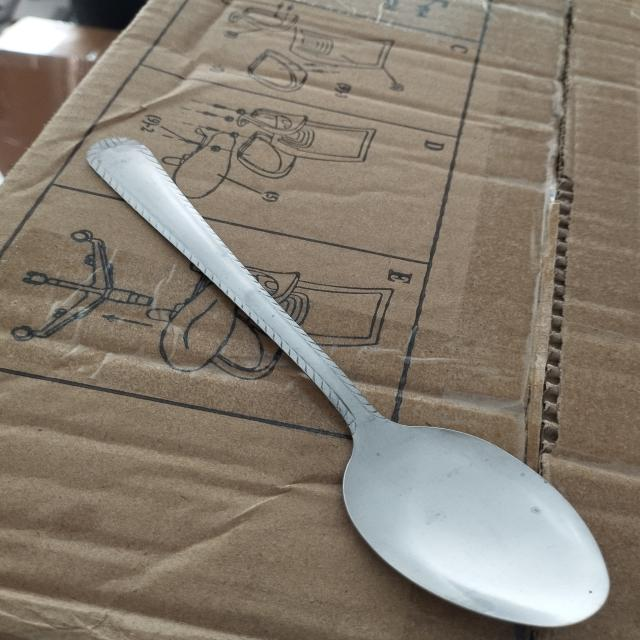Spoon: (34, 129, 625, 640)
